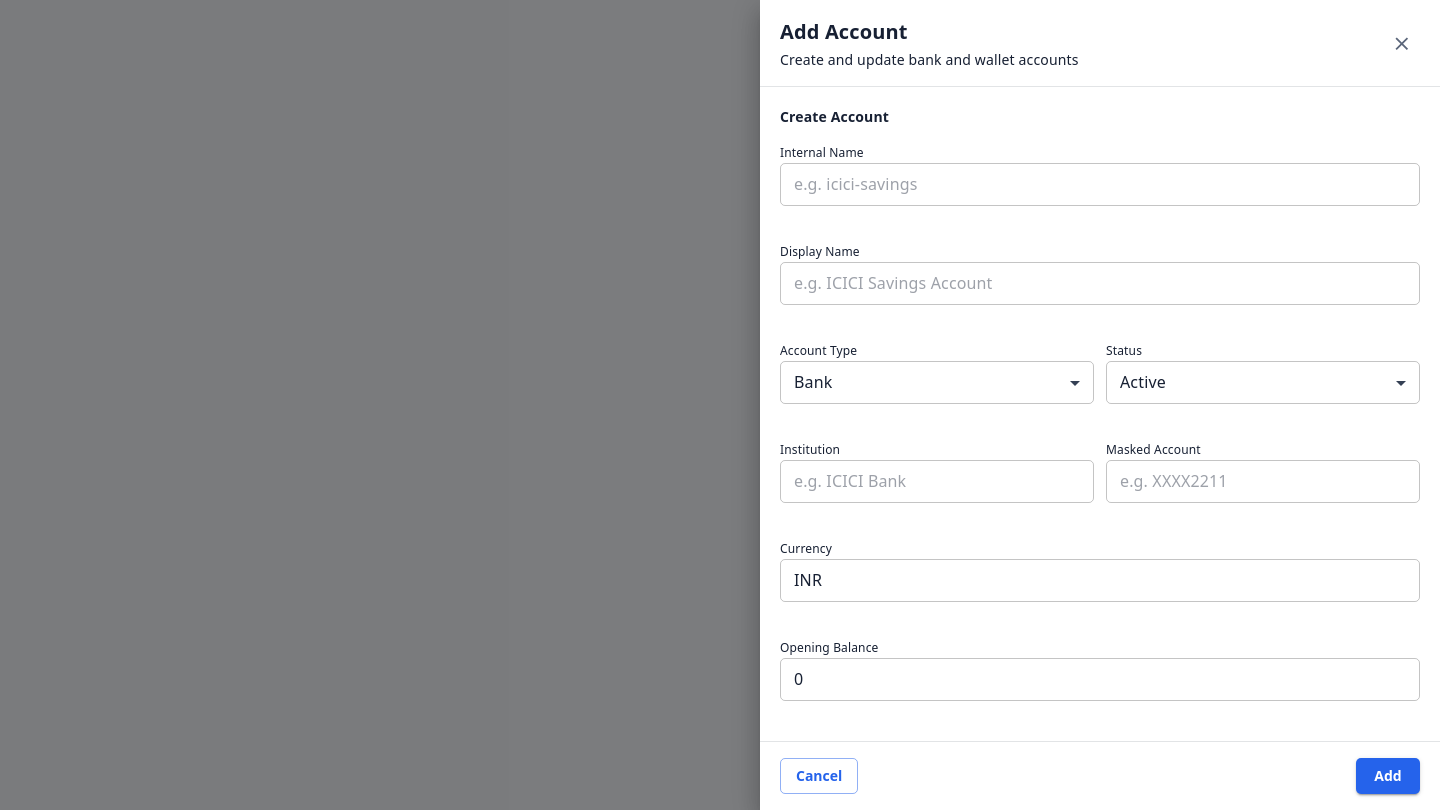
Test: FinancialAccountFormDrawer › does not submit invalid required fields
Click the button "Add": coordinates (1388, 776) x1=1356 y1=758 x2=1420 y2=794
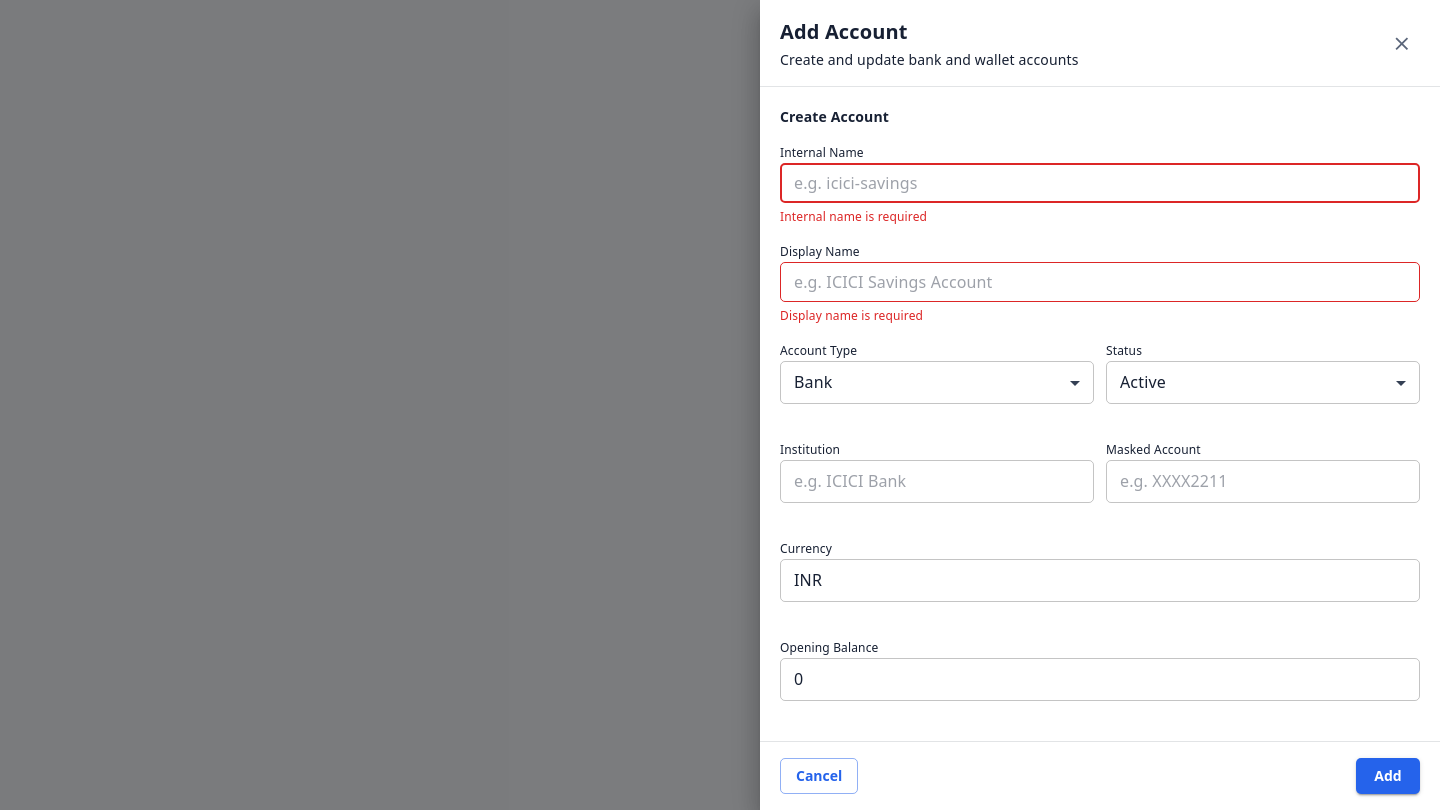
Check: the text "Internal name is required" is shown, box x1=780 y1=208 x2=927 y2=225
Check: the text "Display name is required" is shown, box x1=780 y1=307 x2=923 y2=324
